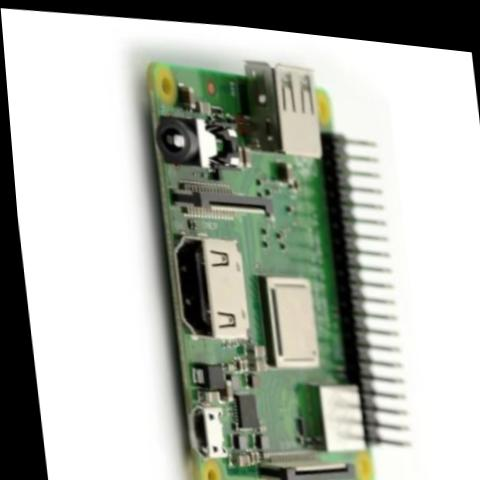Raspberry-Pi-3-Model-A-: (131, 37, 421, 480)
